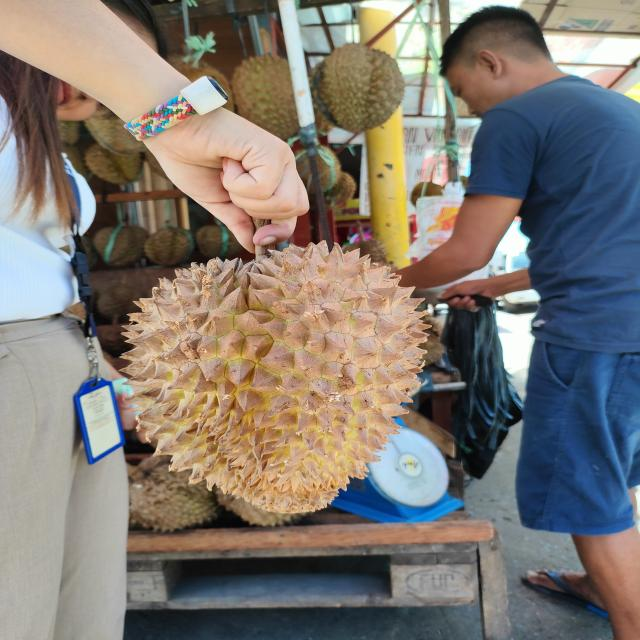mature: (116, 241, 436, 519)
